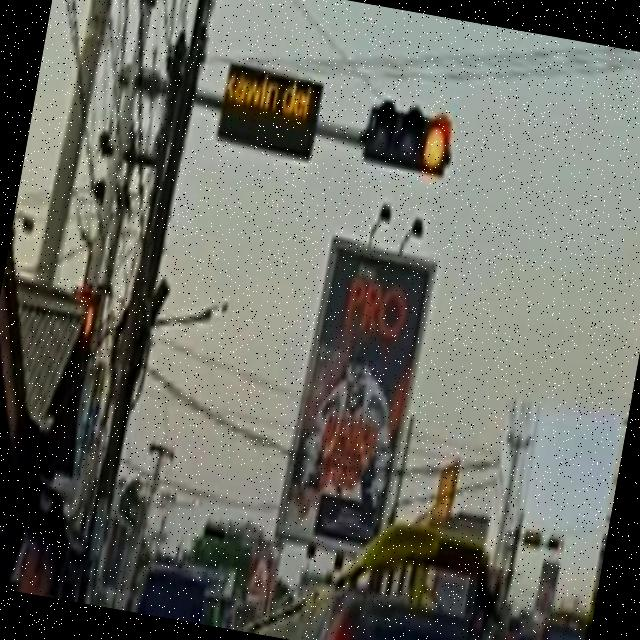Czerwone swiatlo: (364, 100, 456, 180)
